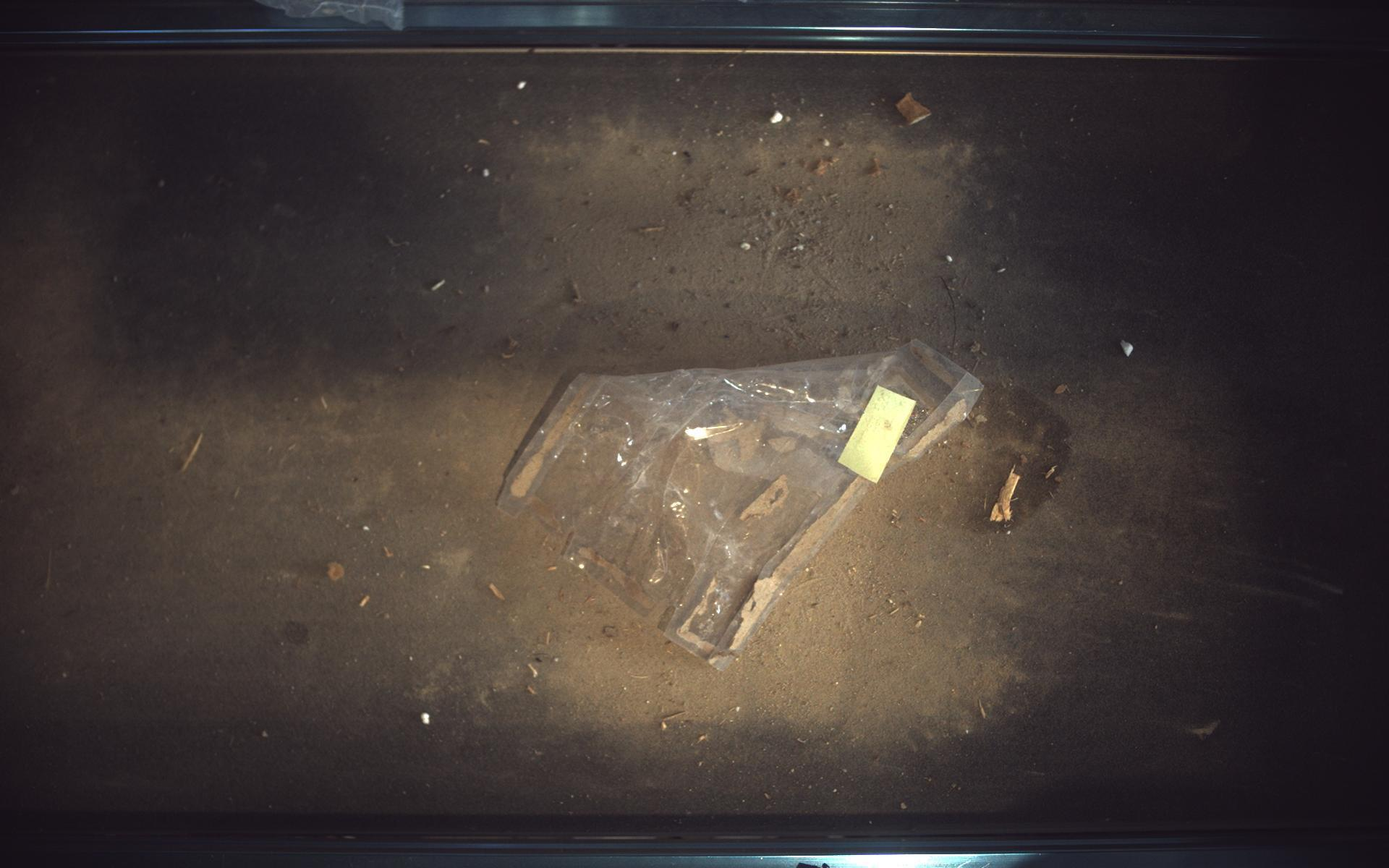general_w: (499, 340, 985, 670)
